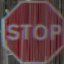Stop: (4, 4, 60, 54)
